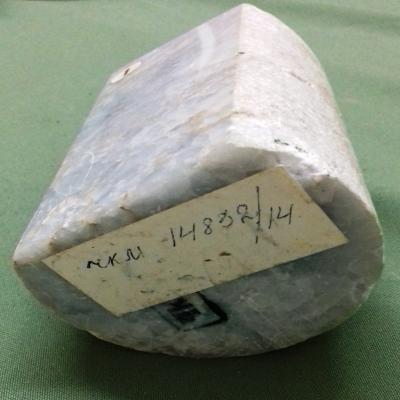mineralogy: (13, 4, 382, 357)
